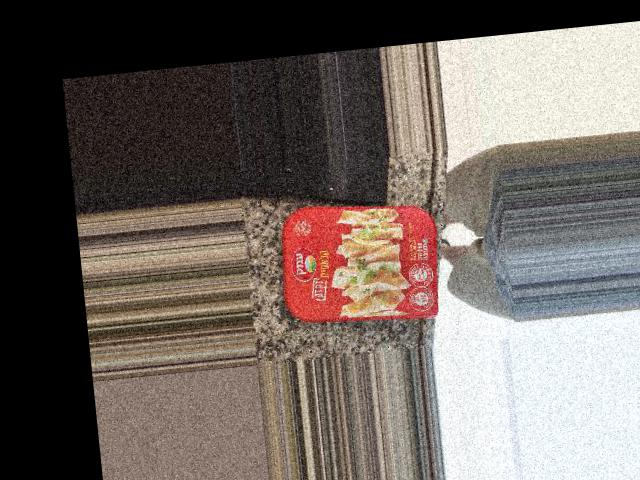cheese: (306, 174, 475, 314)
